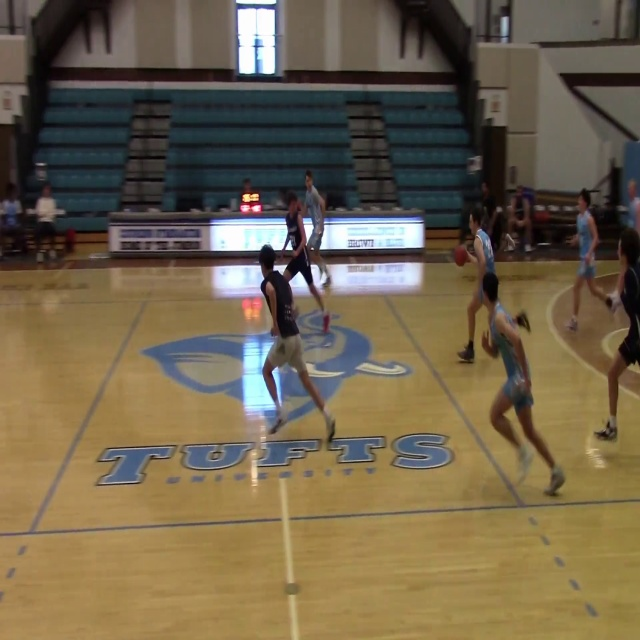Basketball: (453, 245, 468, 267)
